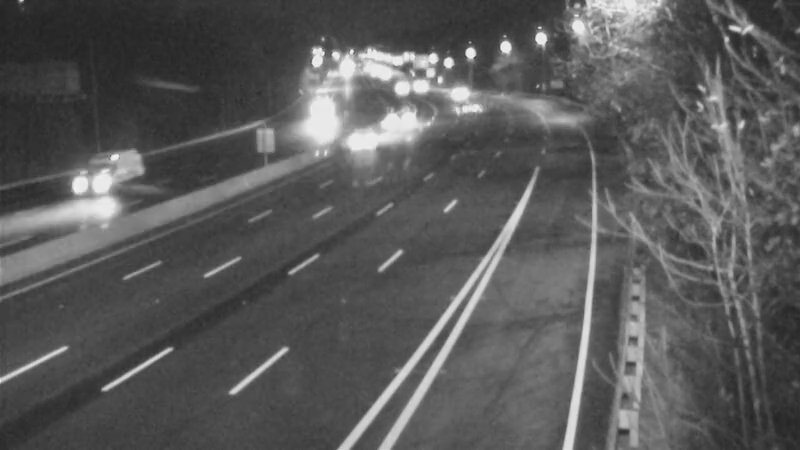vehicle: (49, 138, 129, 218), (371, 63, 421, 113), (396, 60, 446, 110), (431, 68, 481, 118), (448, 84, 498, 134), (369, 94, 419, 144), (343, 115, 393, 165), (295, 84, 345, 134)
